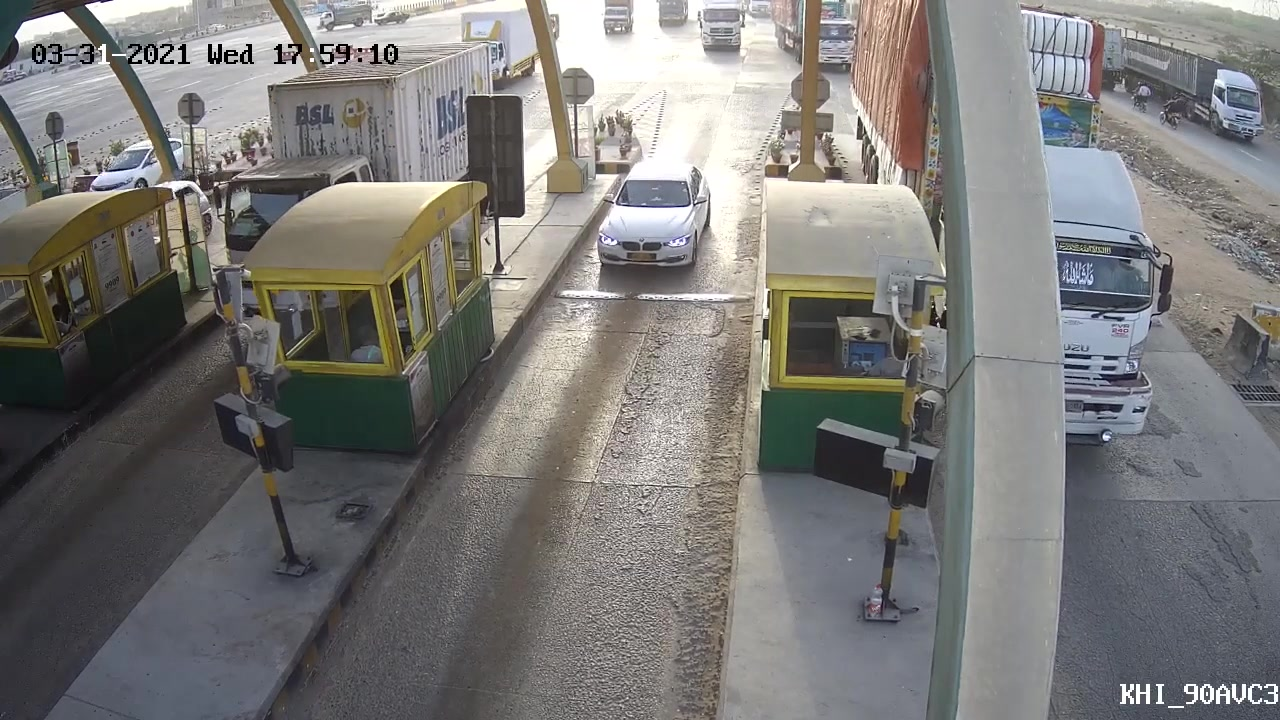F1: (587, 160, 722, 273)
